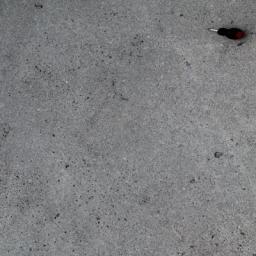FOD: (202, 20, 252, 45)
